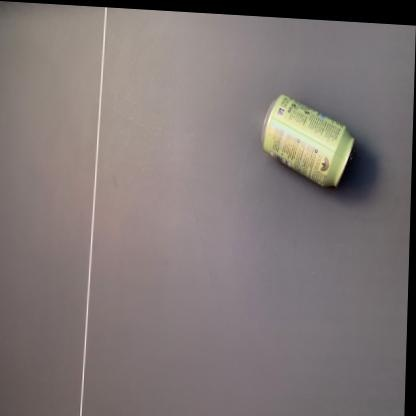trash: (262, 95, 354, 186)
